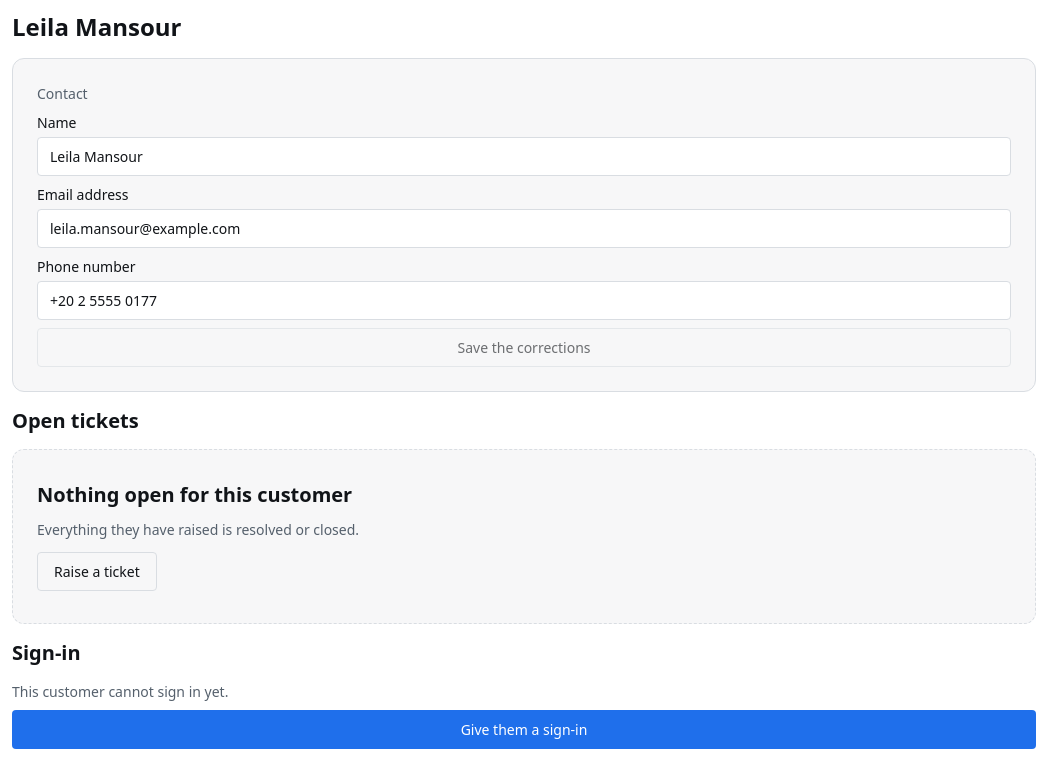
it: nothing to save is not offered
Expected: the button "Save the corrections" is disabled, x1=37 y1=328 x2=1011 y2=367
In the field labelled "Name": [524, 156] box x1=37 y1=137 x2=1011 y2=176, type "x"
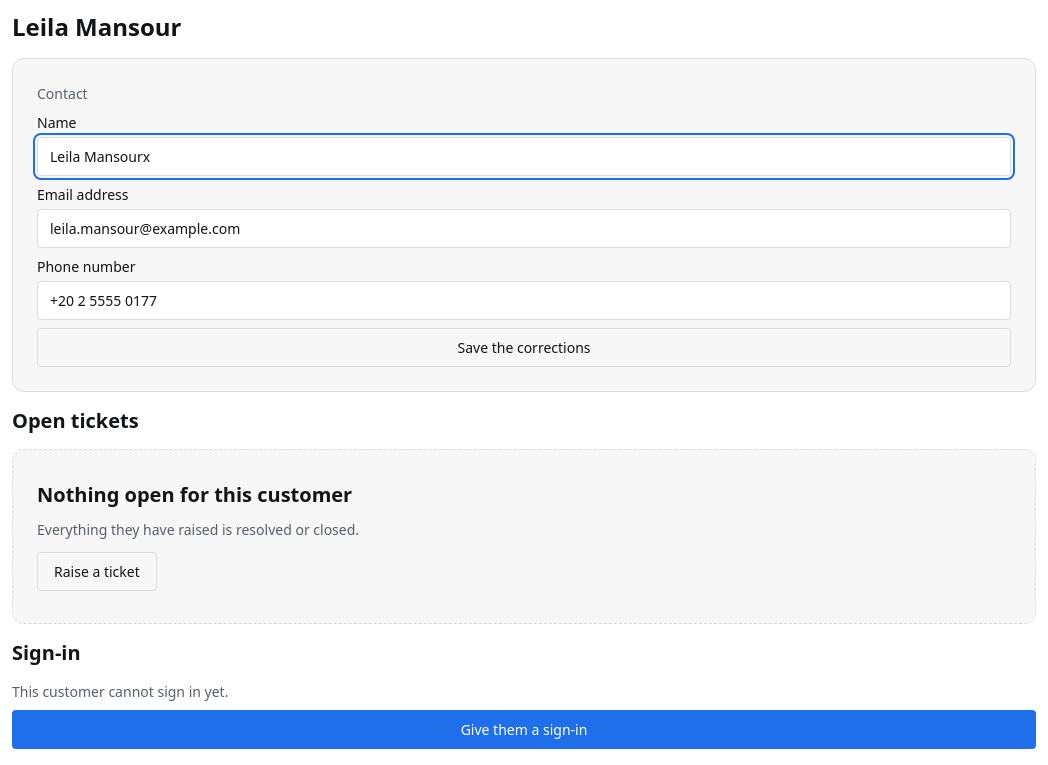
Now the button "Save the corrections" is enabled, box x1=37 y1=328 x2=1011 y2=367
Replace the text in the field labelled "Name" with "Leila Mansour": [524, 156] box x1=37 y1=137 x2=1011 y2=176
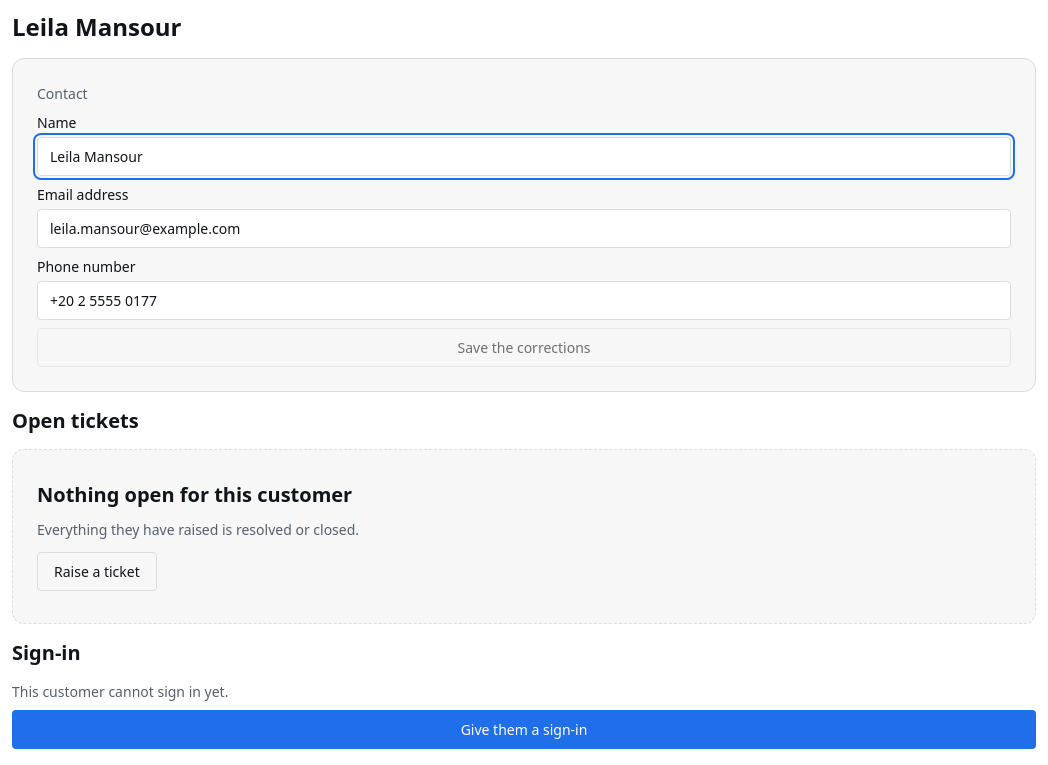
Now the button "Save the corrections" is disabled, box x1=37 y1=328 x2=1011 y2=367
